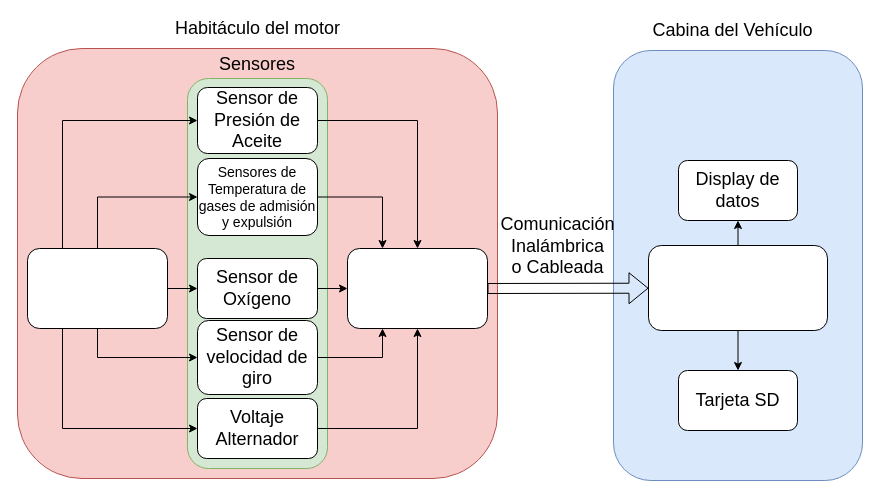
Image size: 880x498. Some labels were removed from this diagram. The centre of each missing label's shape, as x and y in pixels:
"Dispositivo Móvil (Tablet) o Single Board Computer" belongs at [738,287].
"Motor de Combustión Interna" belongs at [97,288].
"Sistema Adquisidor" belongs at [417,288].
